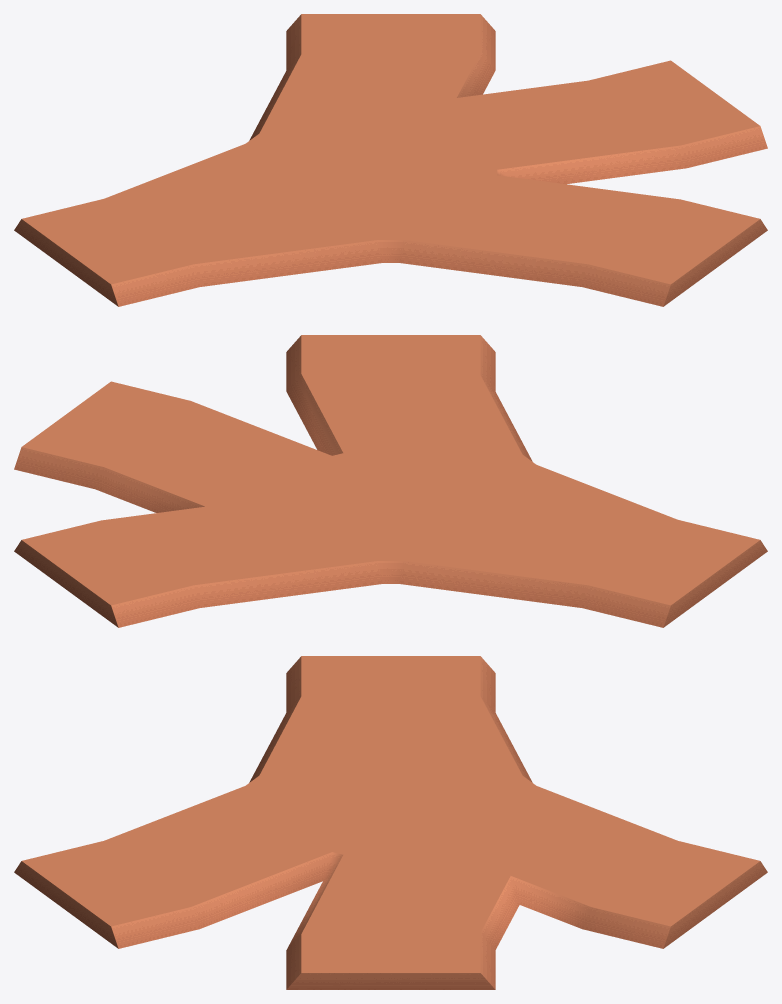
File: path-intersectionD.glb
The picture shows the model from 3 angles, top to bottom: view 1: azimuth 30°, elevation 25°; view 2: azimuth 150°, elevation 25°; view 3: azimuth 270°, elevation 25°; orthographic projection.
Visible parts, largest first — view 1: path-intersectionD; view 2: path-intersectionD; view 3: path-intersectionD.
Boxes of the visible parts, x1=… form: path-intersectionD: x1=14, y1=14, x2=767, y2=306; path-intersectionD: x1=14, y1=335, x2=767, y2=627; path-intersectionD: x1=14, y1=656, x2=767, y2=989.
Size of the model in its own units: 1 by 0.025 by 1.01.
Materials: 1 (1 with a texture image).
